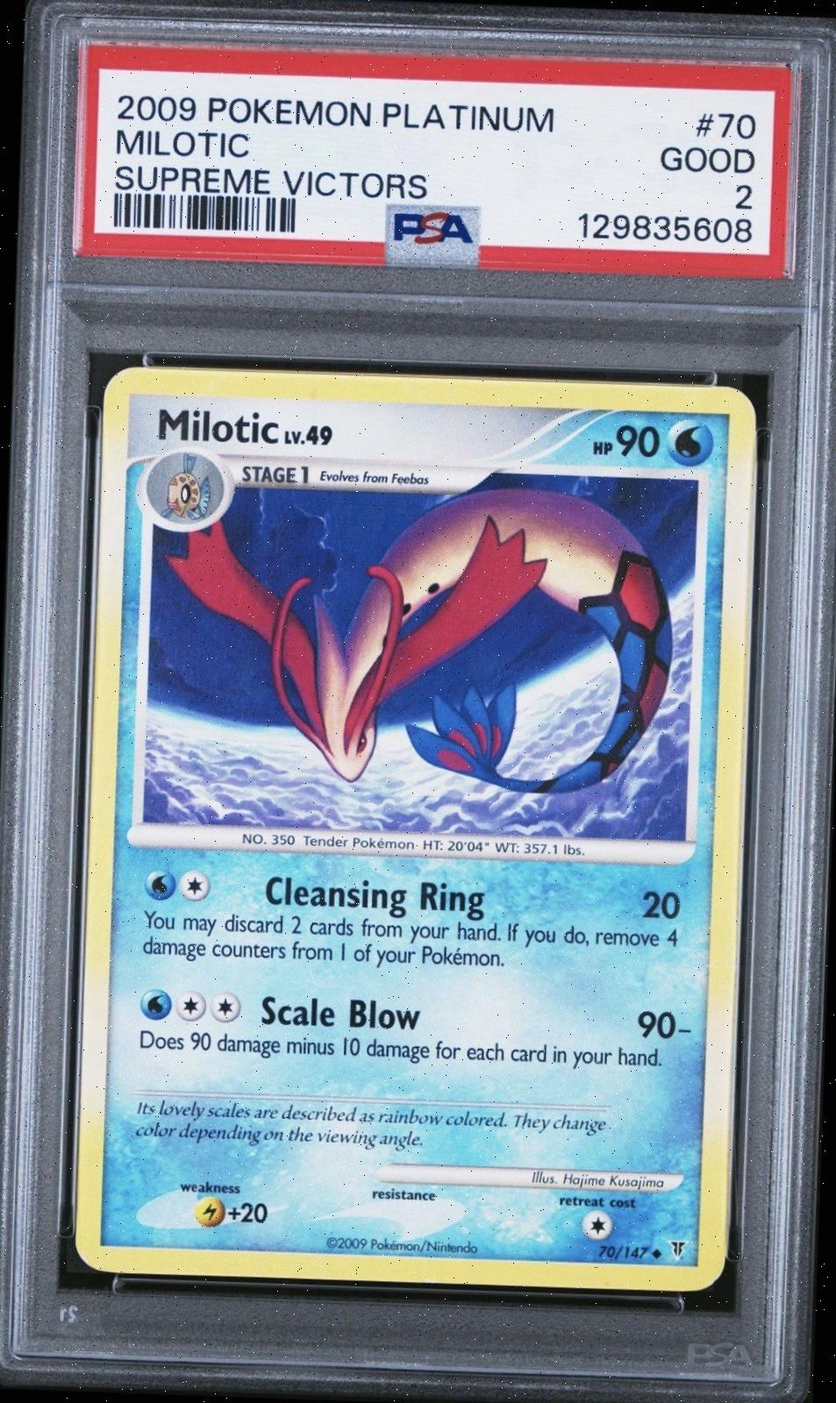card-2UtV: (74, 366, 757, 1292)
